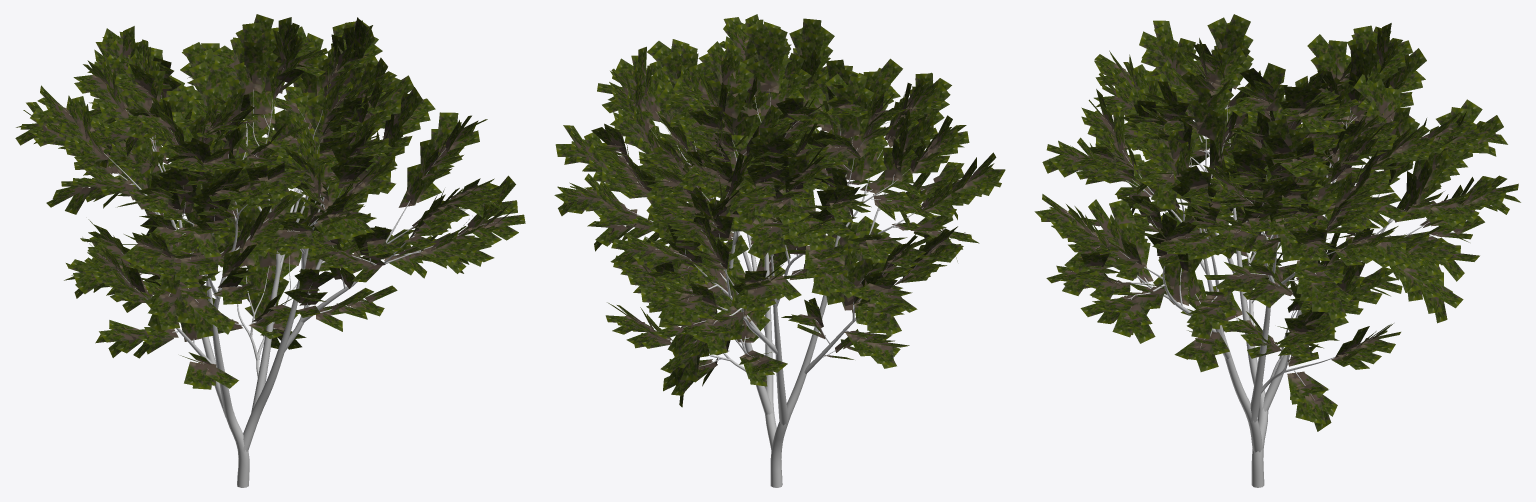
Rendered from treesmall 1.fbx.
3 renders of one model, left to right at view 1: azimuth 30°, elevation 25°; view 2: azimuth 150°, elevation 25°; view 3: azimuth 270°, elevation 25°, orthographic. The views are drawn at different scales.
Parts seen in each view (by area): view 1: leaves.006, tree.002; view 2: leaves.006, tree.002; view 3: leaves.006, tree.002.
Boxes of the visible parts, bbox=[...] form: leaves.006: bbox=[15, 14, 525, 389]; tree.002: bbox=[69, 64, 497, 487]; leaves.006: bbox=[554, 14, 1005, 407]; tree.002: bbox=[615, 89, 941, 487]; leaves.006: bbox=[1034, 14, 1520, 431]; tree.002: bbox=[1066, 68, 1453, 487].
Size of the model in its own units: 706 by 788 by 778.
